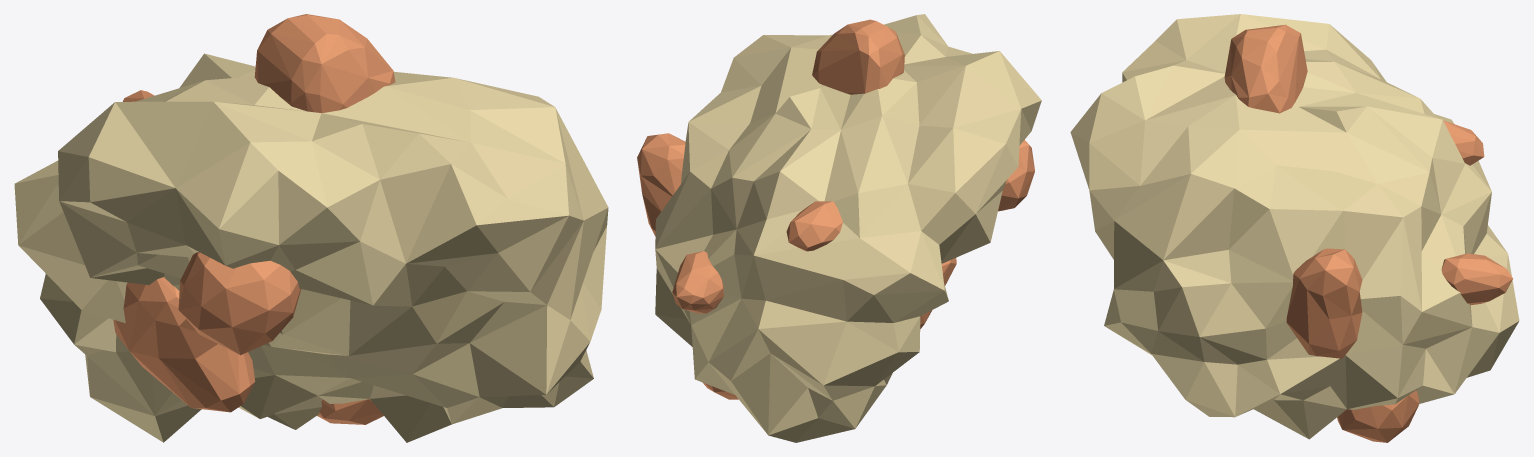
The model's file is StoneOre (27).fbx.
The picture shows the model from 3 angles, left to right: view 1: azimuth 30°, elevation 25°; view 2: azimuth 150°, elevation 25°; view 3: azimuth 270°, elevation 25°; orthographic projection. The views are drawn at different scales.
Parts seen in each view (by area): view 1: Asteroid314; view 2: Asteroid314; view 3: Asteroid314.
Boxes of the visible parts, x1,y1,x2,y2 form: Asteroid314: [14, 14, 608, 442]; Asteroid314: [637, 14, 1041, 442]; Asteroid314: [1070, 14, 1519, 442].
Bounding box in the file's own units: 563 × 539 × 597.
